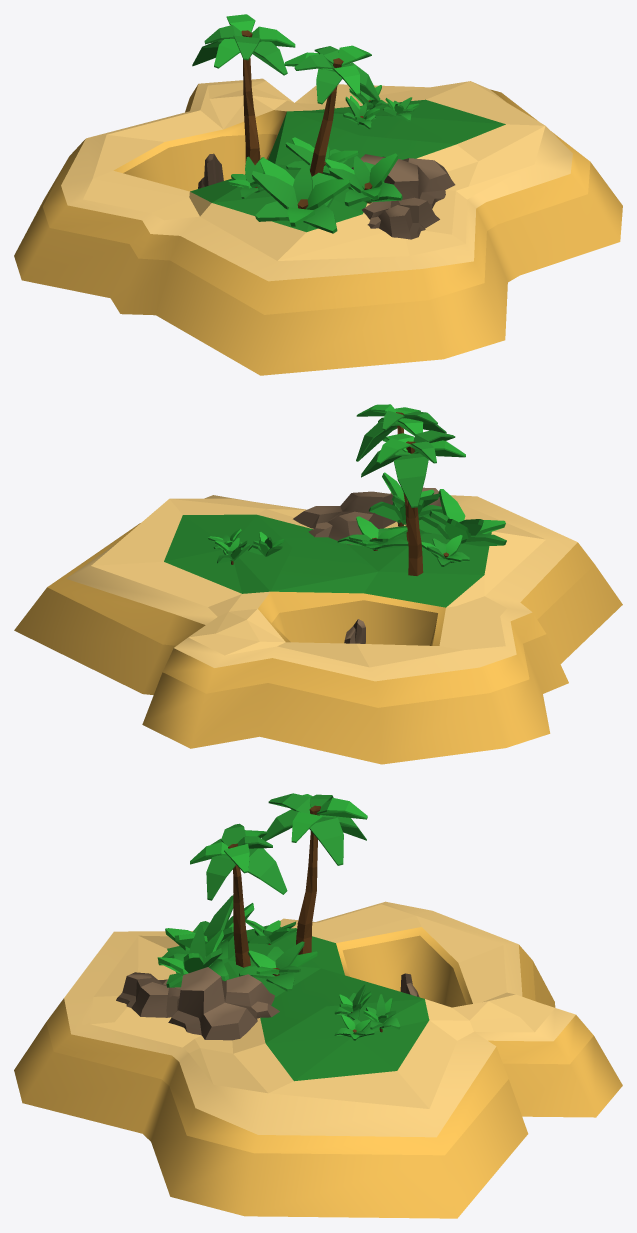
Rendered from Island_1.fbx.
3 views of the same model, one above another, from view 1: azimuth 30°, elevation 25°; view 2: azimuth 150°, elevation 25°; view 3: azimuth 270°, elevation 25° (orthographic). The views are drawn at different scales.
Visible parts, largest first — view 1: Island_1, Palm_2, Bush_16, Palm_1, Rock_1, Bush_17, Rock_7, Bush_14, Bush_15, Bush_12, Rock_8; view 2: Island_1, Palm_2, Rock_1, Bush_16, Palm_1, Bush_17, Bush_14, Bush_15, Bush_1; view 3: Island_1, Rock_1, Palm_2, Palm_1, Rock_7, Bush_17, Bush_14, Bush_16, Bush_15, Bush_1, Bush_12.
Boxes of the visible parts, box(x1,y1,x2,y2) form: Island_1: box(14, 78, 622, 375); Palm_2: box(192, 14, 295, 165); Bush_16: box(252, 157, 350, 233); Palm_1: box(284, 45, 379, 176); Rock_1: box(351, 154, 455, 208); Bush_17: box(326, 153, 402, 206); Rock_7: box(362, 196, 439, 239); Bush_14: box(285, 137, 358, 177); Bush_15: box(228, 156, 265, 198); Bush_12: box(343, 96, 379, 129); Rock_8: box(198, 153, 223, 188); Island_1: box(14, 495, 622, 764); Palm_2: box(361, 430, 465, 575); Rock_1: box(293, 491, 396, 544); Bush_16: box(418, 489, 506, 546); Palm_1: box(356, 404, 446, 541); Bush_17: box(369, 472, 443, 526); Bush_14: box(337, 516, 408, 550); Bush_15: box(421, 535, 469, 566); Bush_1: box(215, 538, 250, 564); Island_1: box(14, 901, 622, 1218); Rock_1: box(168, 967, 279, 1040); Palm_2: box(261, 793, 367, 954); Palm_1: box(190, 823, 287, 967); Rock_7: box(116, 972, 180, 1017); Bush_17: box(157, 925, 228, 987); Bush_14: box(239, 941, 317, 991); Bush_16: box(158, 895, 254, 965); Bush_15: box(245, 919, 296, 944); Bush_1: box(363, 994, 400, 1032); Bush_12: box(334, 984, 371, 1019).
Bounding box in the file's own units: 2649 × 1127 × 2559.
1 material, 1 textured.
